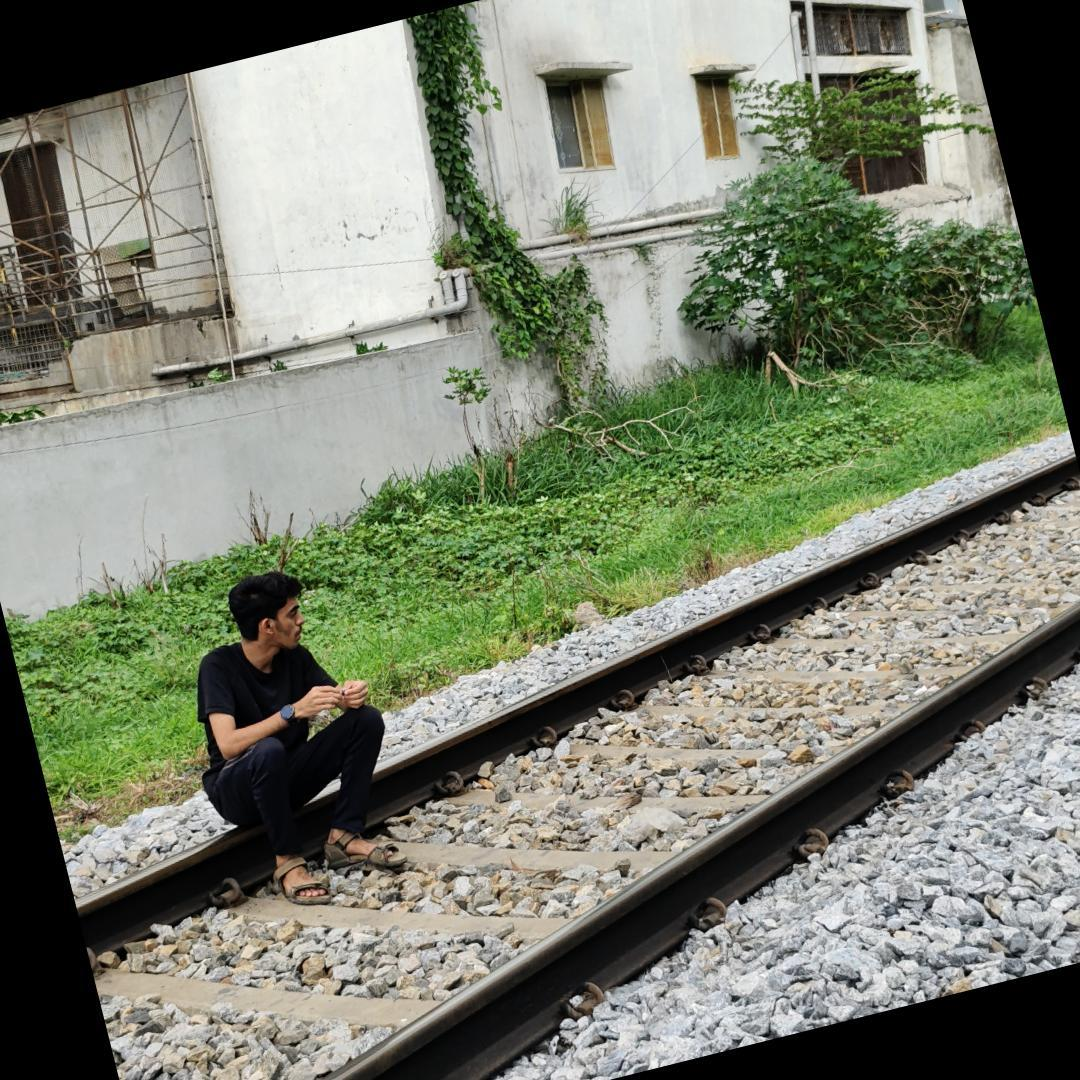sitting: (184, 557, 414, 918)
